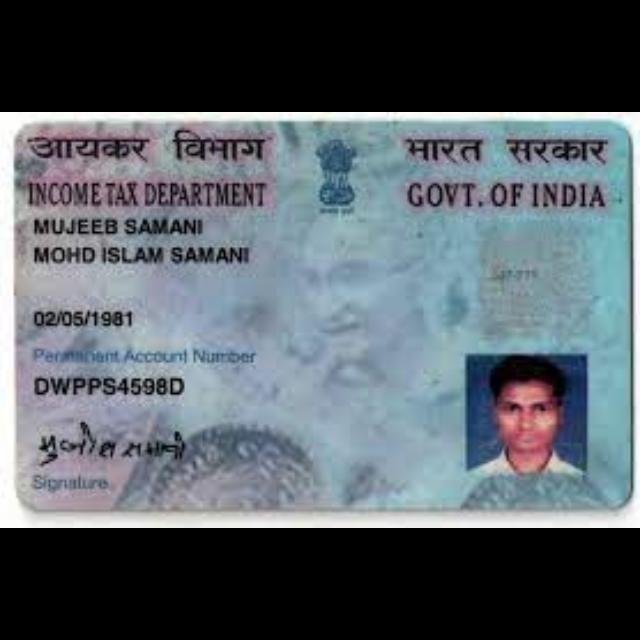pan: (7, 116, 636, 524)
